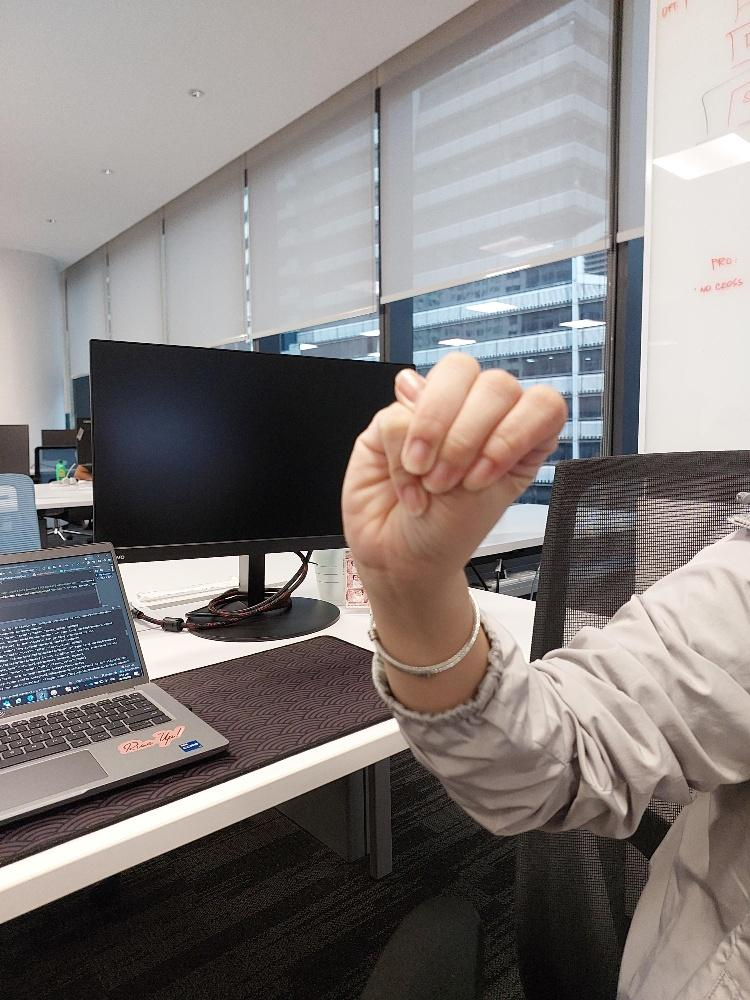m: (340, 350, 566, 572)
